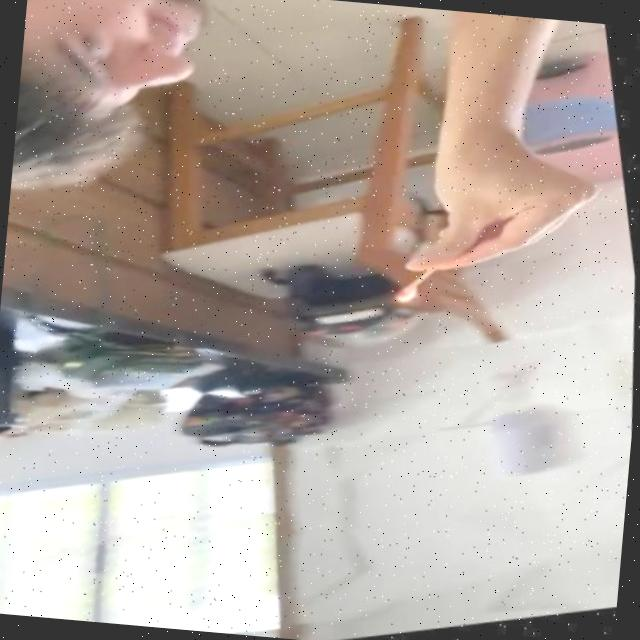fire: (391, 283, 425, 309)
